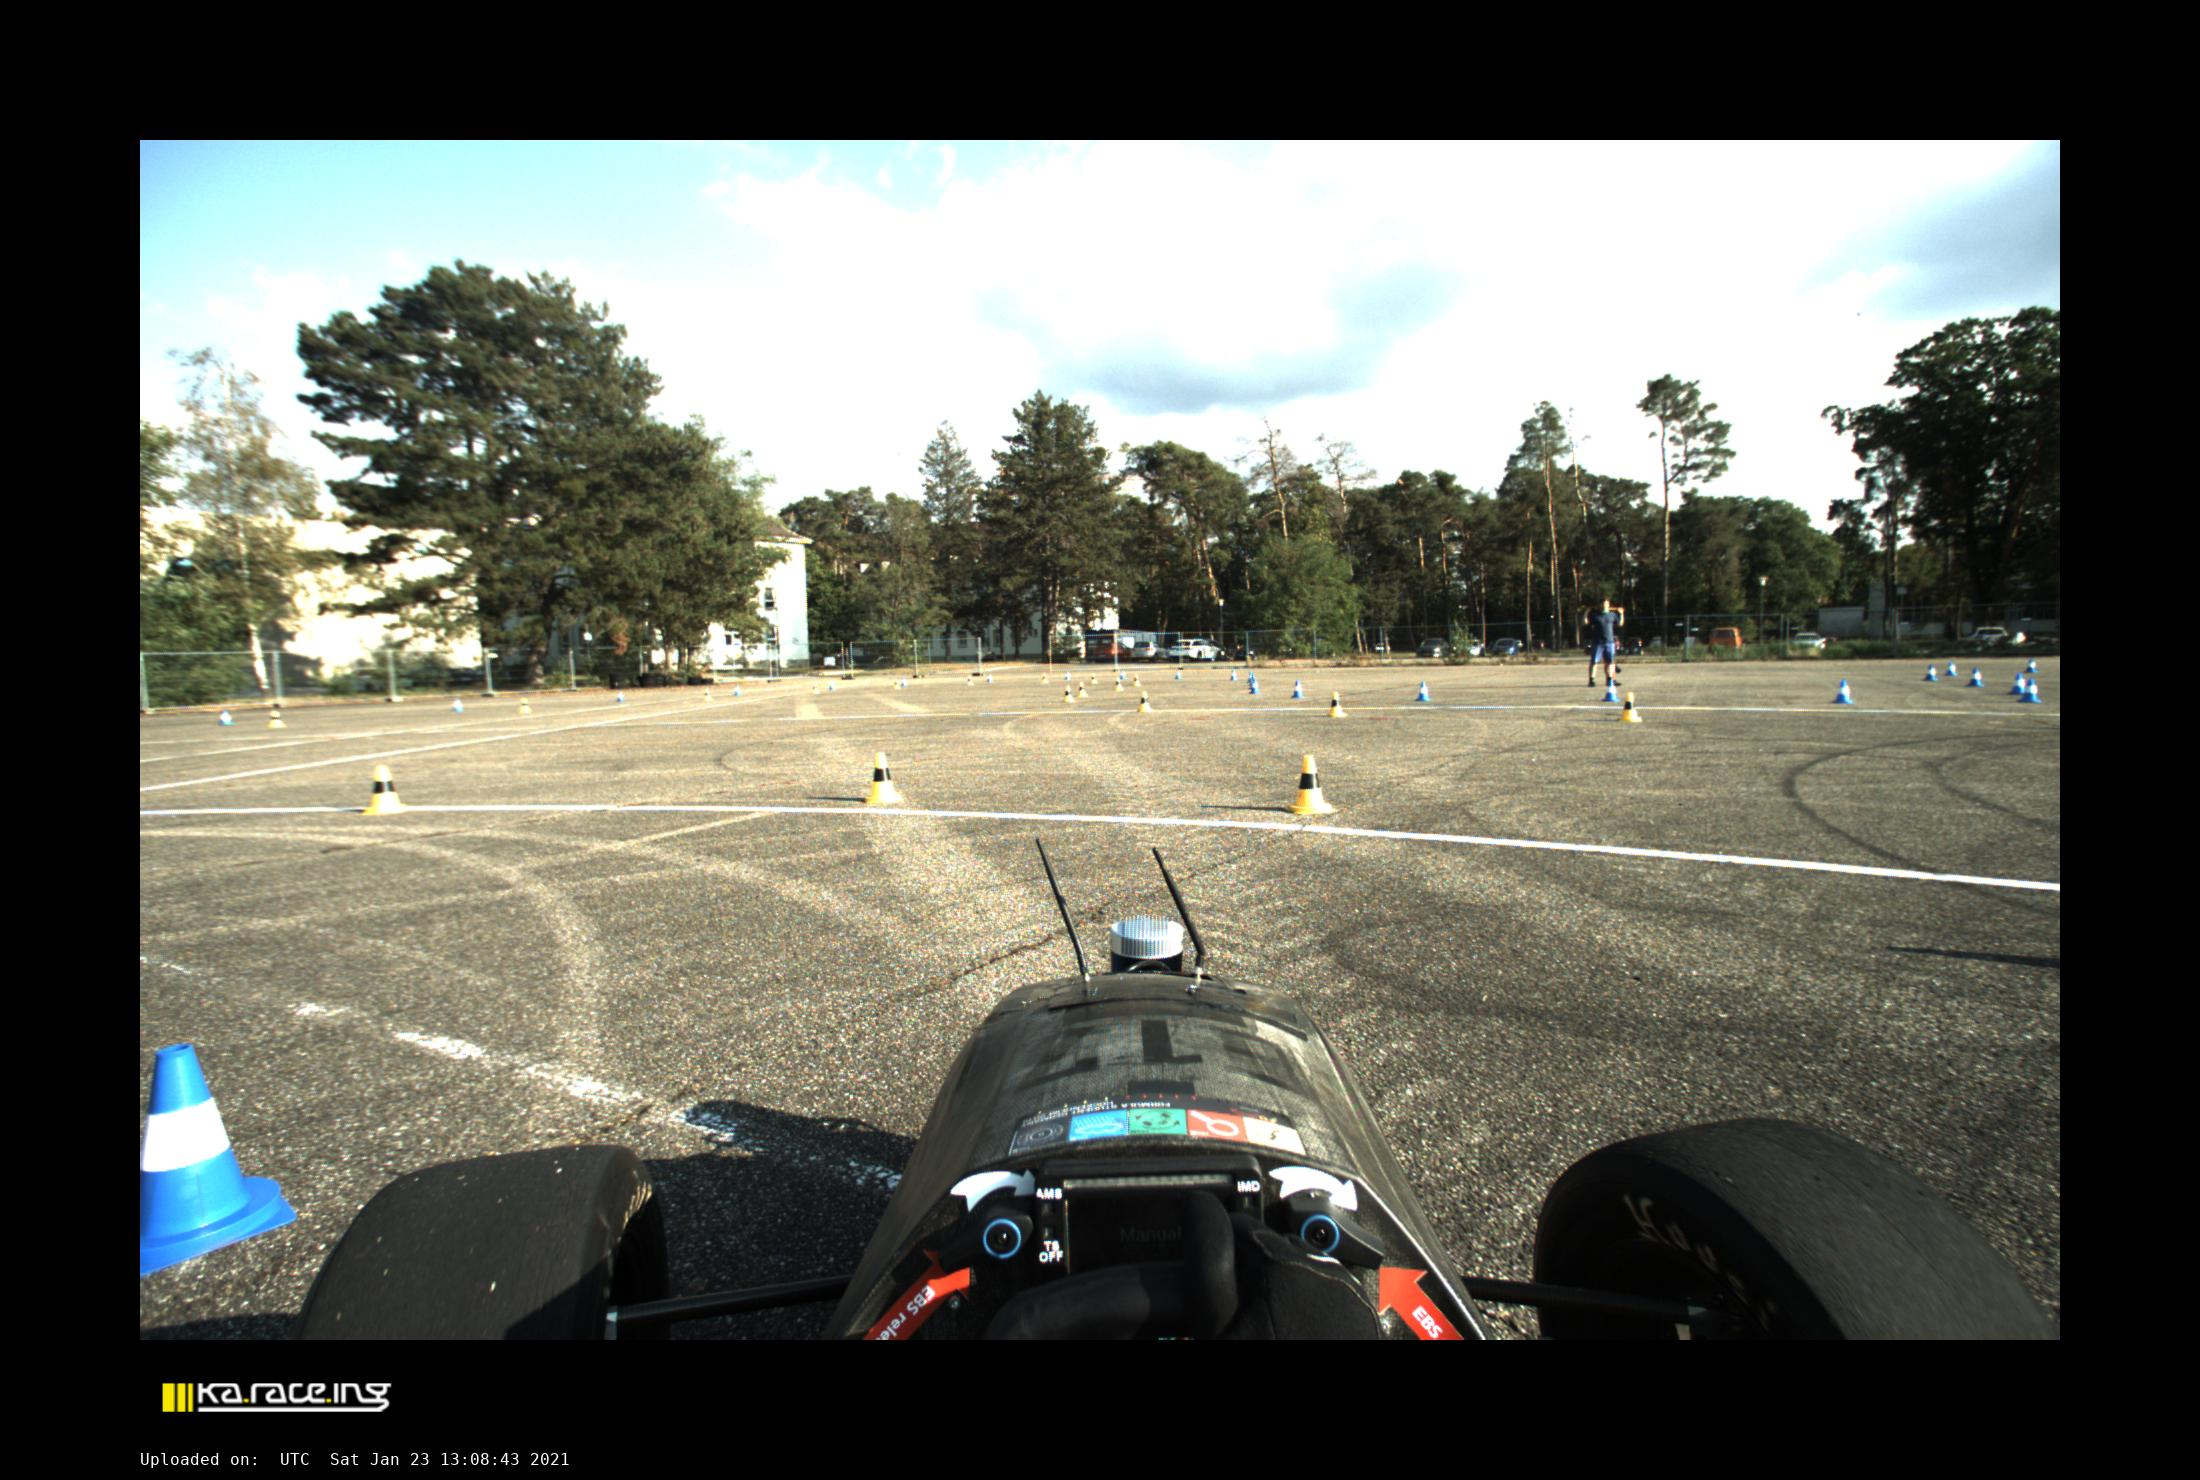blue_cone: (144, 1042, 297, 1277), (2020, 677, 2041, 704), (1833, 679, 1853, 704), (1602, 677, 1620, 702), (2008, 672, 2023, 694), (1415, 681, 1430, 702), (1969, 667, 1984, 687), (1292, 681, 1305, 699), (220, 710, 235, 725), (1924, 664, 1937, 681), (2025, 657, 2038, 672), (451, 699, 464, 712), (1946, 661, 1957, 676), (1249, 679, 1260, 694), (1174, 667, 1183, 681), (1229, 671, 1239, 681), (616, 690, 624, 702), (733, 685, 742, 695), (984, 672, 993, 682), (1118, 671, 1126, 681), (829, 679, 836, 690), (902, 676, 908, 687), (1064, 671, 1070, 681), (1249, 674, 1254, 685), (1247, 671, 1250, 682)
yellow_cone: (1288, 757, 1338, 813), (360, 765, 410, 814), (865, 752, 903, 803), (1619, 690, 1643, 722), (1326, 690, 1348, 719), (1138, 690, 1155, 712), (268, 710, 286, 728), (519, 697, 532, 714), (1077, 681, 1088, 697), (1064, 685, 1074, 702), (1115, 677, 1125, 692), (1131, 674, 1141, 685), (704, 689, 714, 700), (811, 681, 819, 694), (1090, 672, 1098, 684), (966, 676, 974, 685), (1041, 672, 1049, 682), (894, 677, 900, 689)
